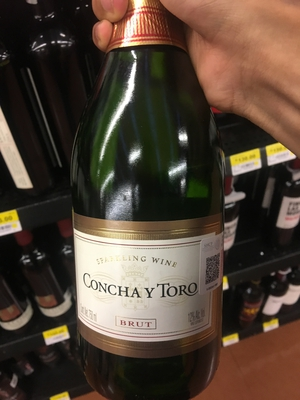brut: (64, 12, 229, 398)
